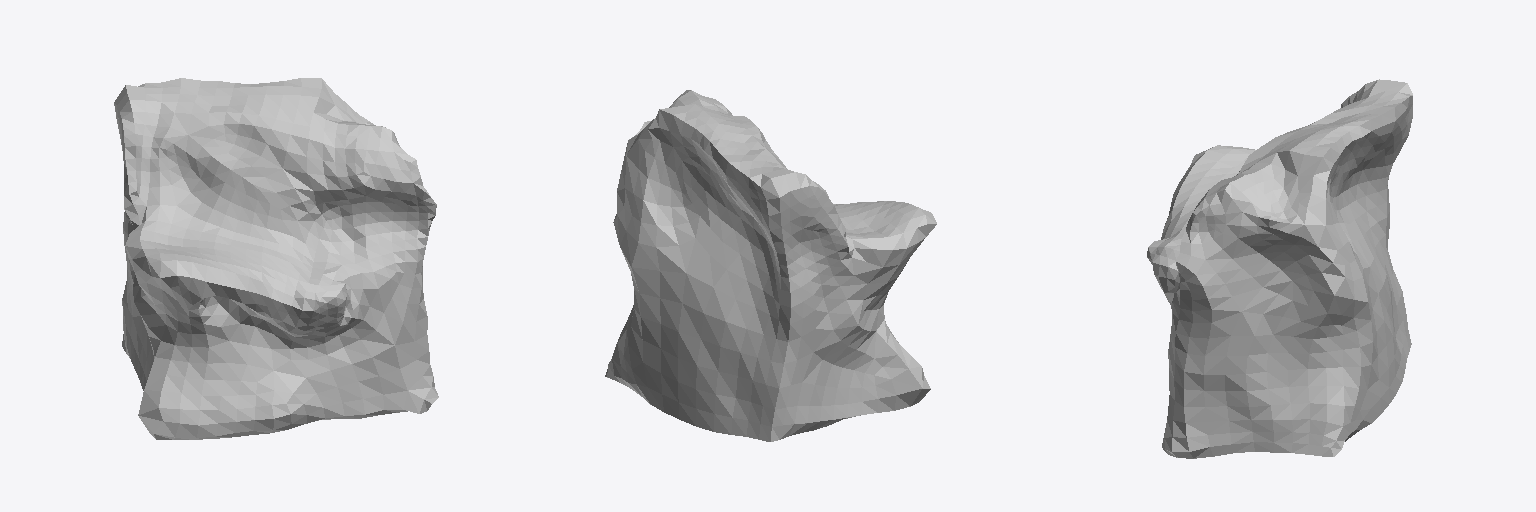
File: StoneCenter.obj
The picture shows the model from 3 angles: view 1: azimuth 30°, elevation 25°; view 2: azimuth 150°, elevation 25°; view 3: azimuth 270°, elevation 25°; orthographic projection.
Parts seen in each view (by area): view 1: Group11994; view 2: Group11994; view 3: Group11994.
Boxes of the visible parts, <box> form: Group11994: <box>114,78,438,439</box>; Group11994: <box>605,90,936,441</box>; Group11994: <box>1147,79,1412,458</box>.
Bounding box in the file's own units: 3.91 × 3.91 × 3.31.